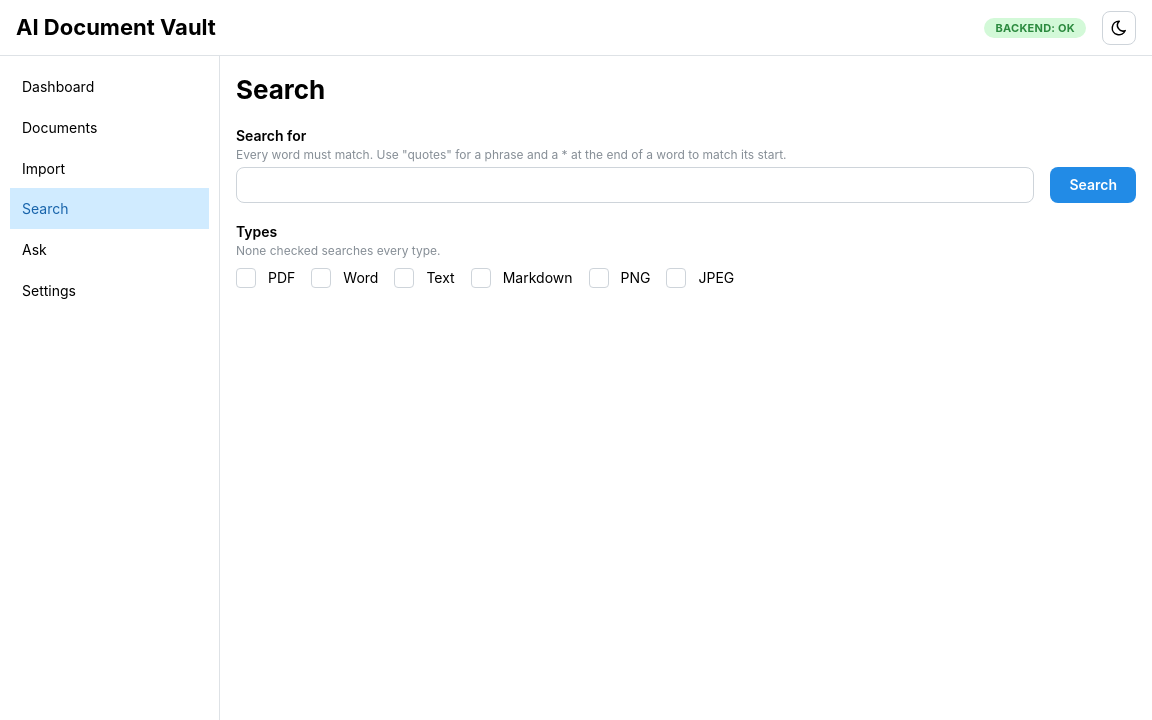
Test: search page › moves to the last page when the page asked for is past the end
The width and height of the screenshot is (1152, 720).
Expected: the heading "Search" is shown, left=236, top=74, right=325, bottom=105
Type "letter" into the search field labelled "Search for" at (635, 185), box left=236, top=167, right=1034, bottom=203
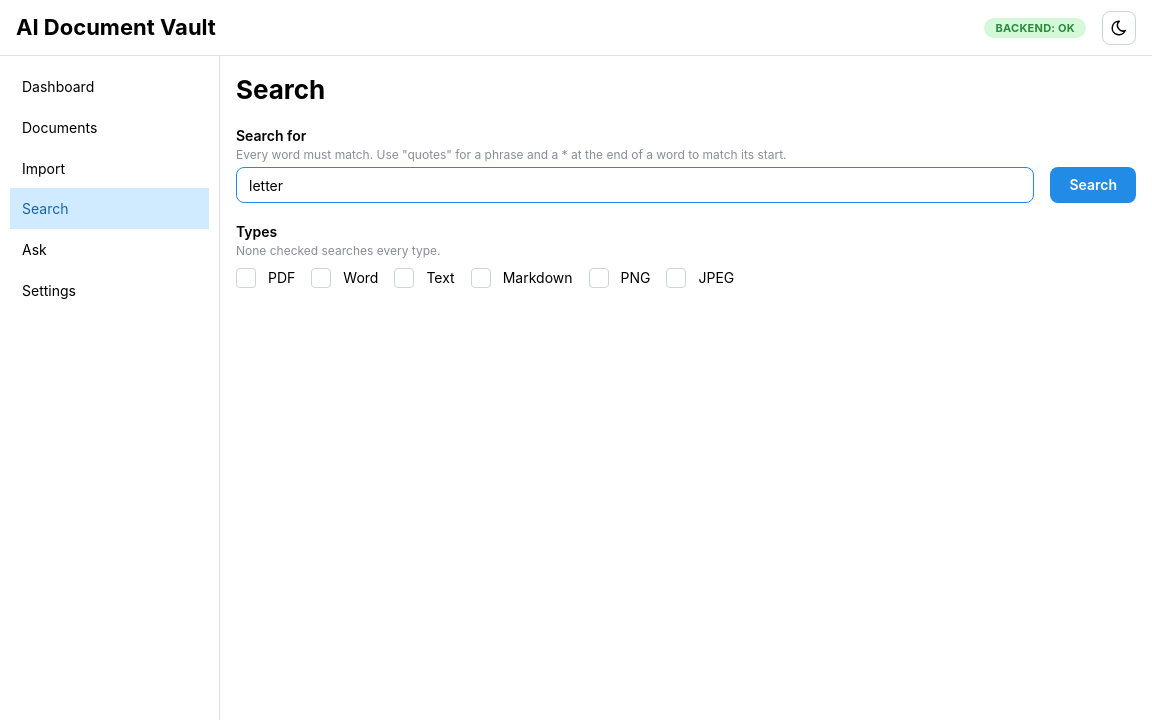
Click the button "Search" at (1093, 185), box left=1050, top=167, right=1136, bottom=203
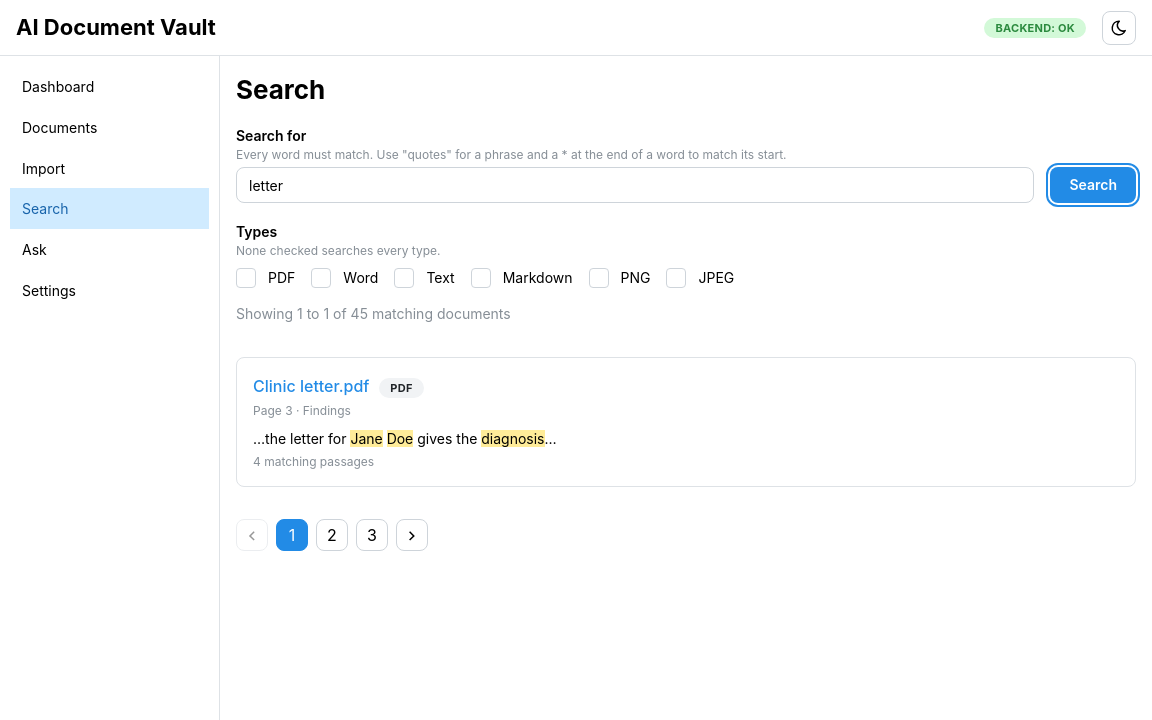
Click the button "3" at (372, 536), box left=356, top=520, right=388, bottom=552
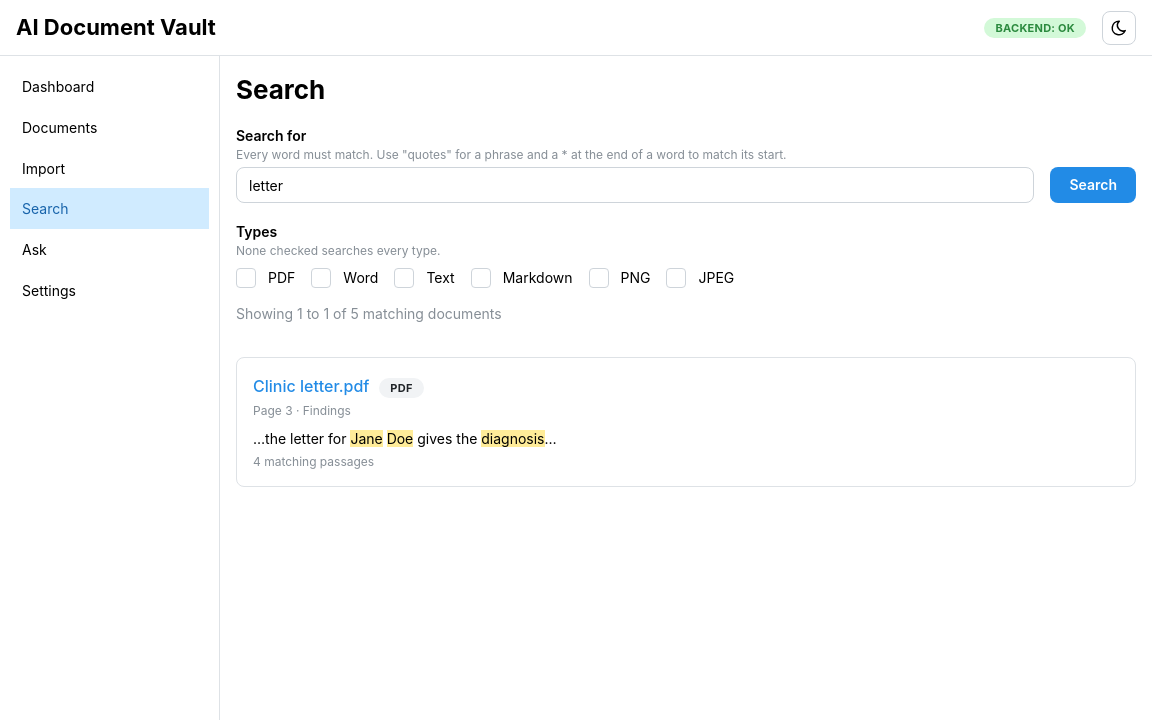
Expected: the message reads "Showing 1 to 1 of 5 matching documents", left=236, top=306, right=502, bottom=322
